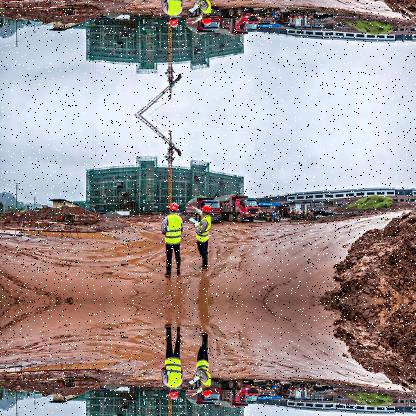Helmet: (163, 193, 185, 219), (164, 385, 184, 407), (163, 14, 184, 34), (197, 384, 218, 404), (197, 14, 215, 32), (197, 200, 213, 218)
